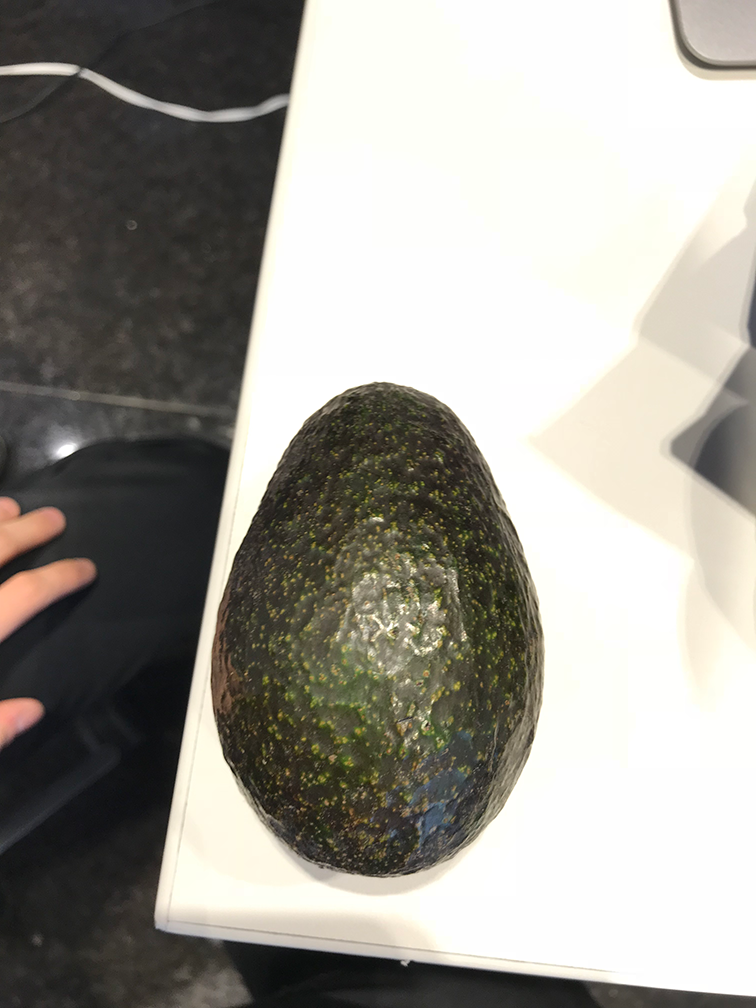avocado: (202, 362, 562, 897)
